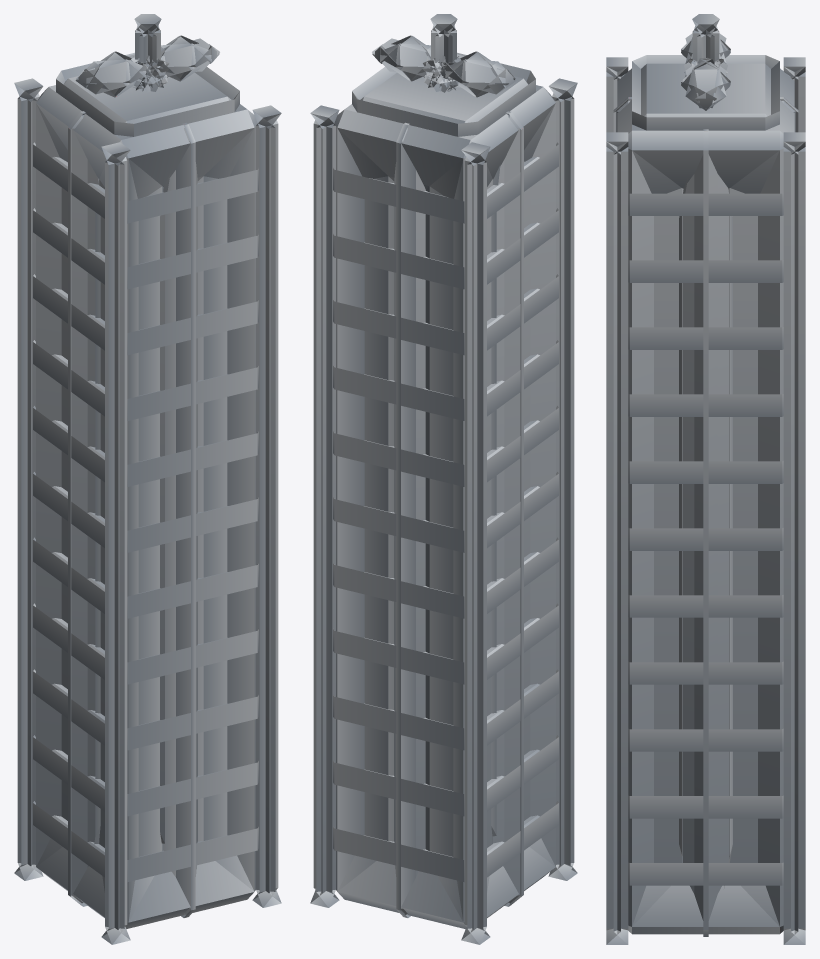
The model's file is dt_glass_tower_bow.fbx.
3 renders of one model, left to right at view 1: azimuth 30°, elevation 25°; view 2: azimuth 150°, elevation 25°; view 3: azimuth 270°, elevation 25°, orthographic.
Parts seen in each view (by area): view 1: dt_glass_tower_bow; view 2: dt_glass_tower_bow; view 3: dt_glass_tower_bow.
Boxes of the visible parts, x1,y1,x2,y2 form: dt_glass_tower_bow: [14, 14, 281, 944]; dt_glass_tower_bow: [310, 14, 577, 944]; dt_glass_tower_bow: [606, 14, 805, 944].
Size of the model in its own units: 1224 by 6000 by 1224.
